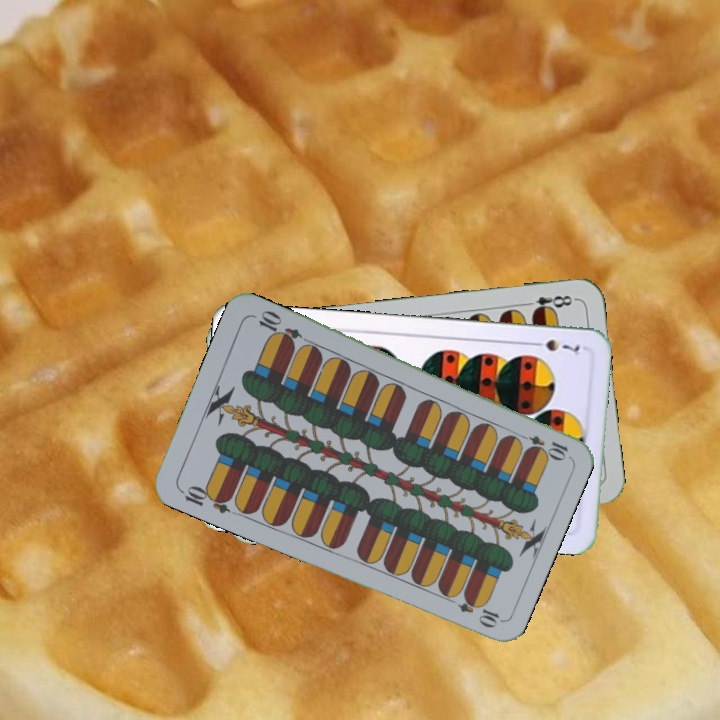E10: (176, 481, 234, 516), (513, 429, 571, 461)
E8: (519, 291, 578, 317)
S7: (526, 335, 582, 358)
